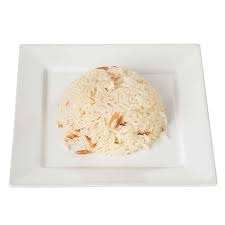pirinc_pilavi: (57, 66, 167, 155)
